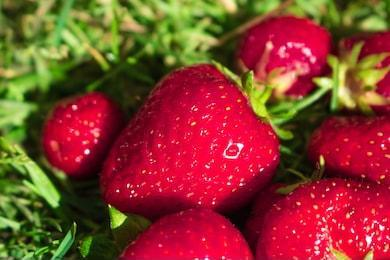Fresa: (93, 55, 287, 222)
